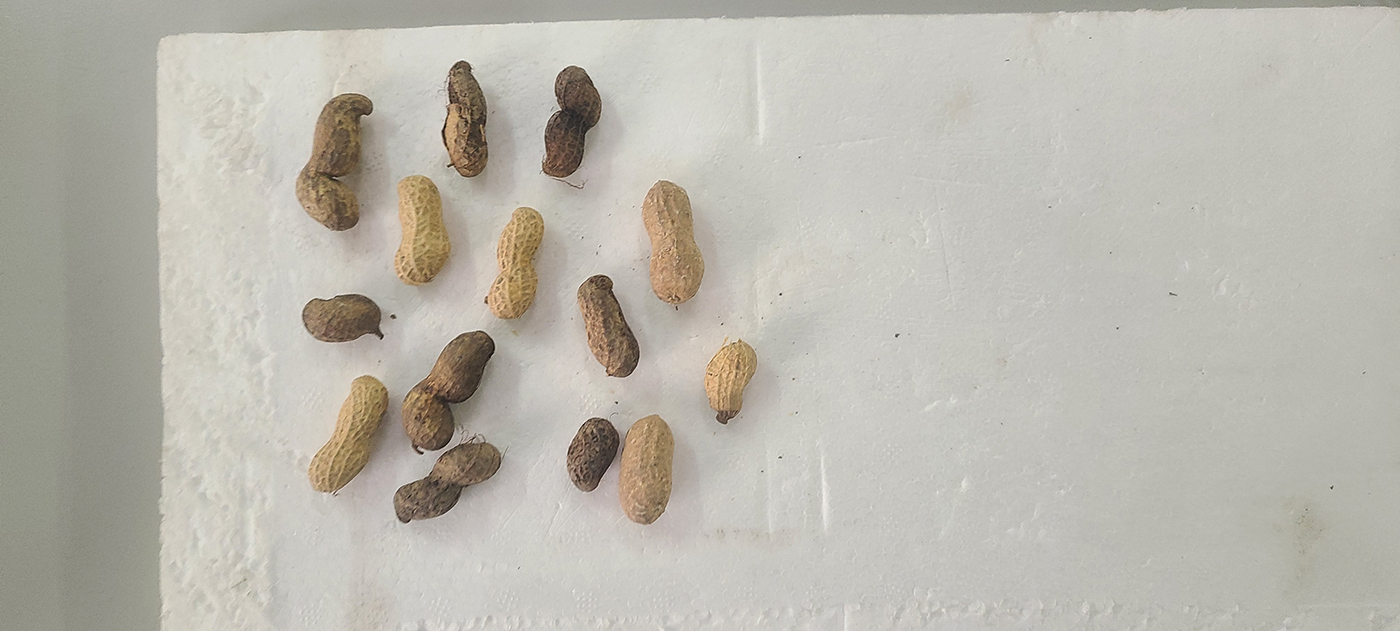h: (308, 374, 388, 494), (642, 179, 704, 305), (488, 205, 544, 319), (393, 175, 450, 285), (619, 414, 675, 525), (705, 341, 757, 421)
l: (401, 330, 494, 450), (297, 92, 374, 231), (396, 442, 502, 522), (575, 274, 640, 378), (543, 65, 602, 176), (443, 61, 490, 177), (565, 415, 620, 493), (302, 294, 382, 342)
